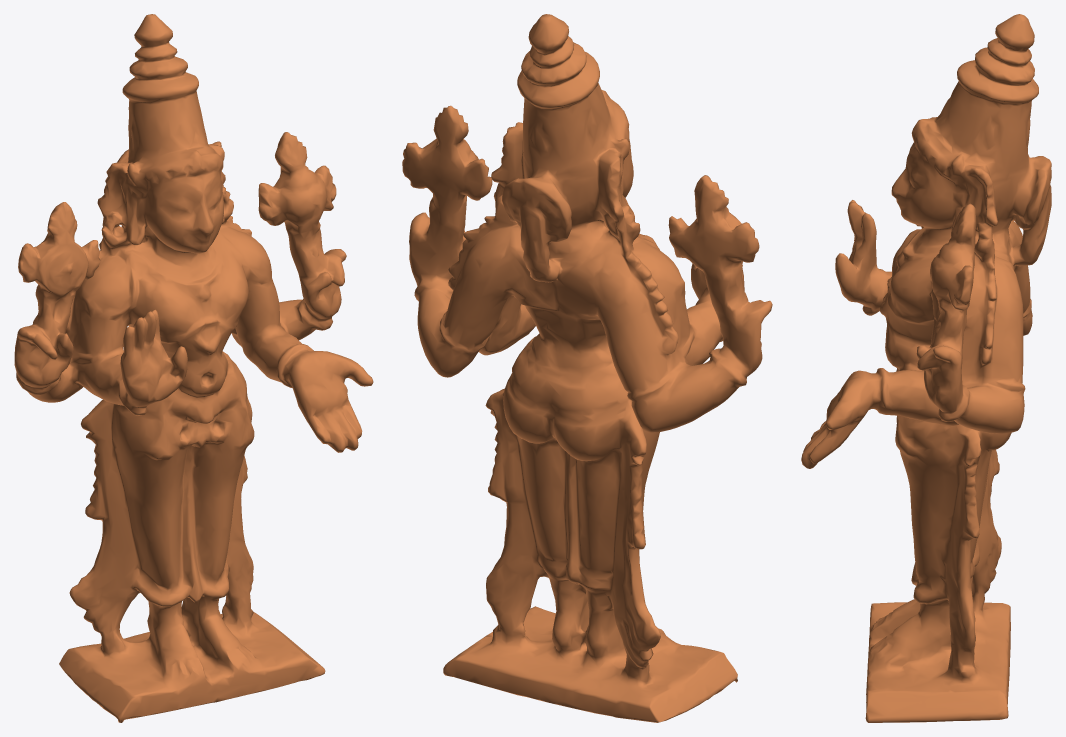
File: Vainavam_Perumal_18.glb
The picture shows the model from 3 angles, left to right: view 1: azimuth 30°, elevation 25°; view 2: azimuth 150°, elevation 25°; view 3: azimuth 270°, elevation 25°; orthographic projection. The views are drawn at different scales.
Visible parts, largest first — view 1: Vainavam_Perumal_18; view 2: Vainavam_Perumal_18; view 3: Vainavam_Perumal_18.
Boxes of the visible parts, x1,y1,x2,y2 form: Vainavam_Perumal_18: (14,14,373,722); Vainavam_Perumal_18: (402,14,772,722); Vainavam_Perumal_18: (801,14,1051,722).
Size of the model in its own units: 0.3347 by 0.626 by 0.2156.
